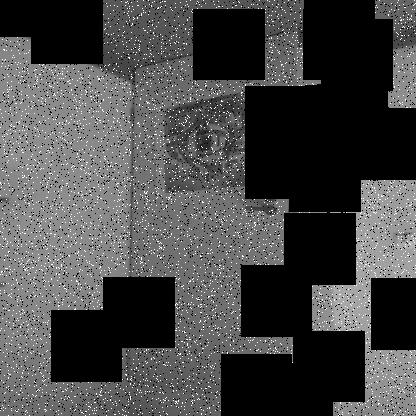Porte: (124, 27, 308, 412)
